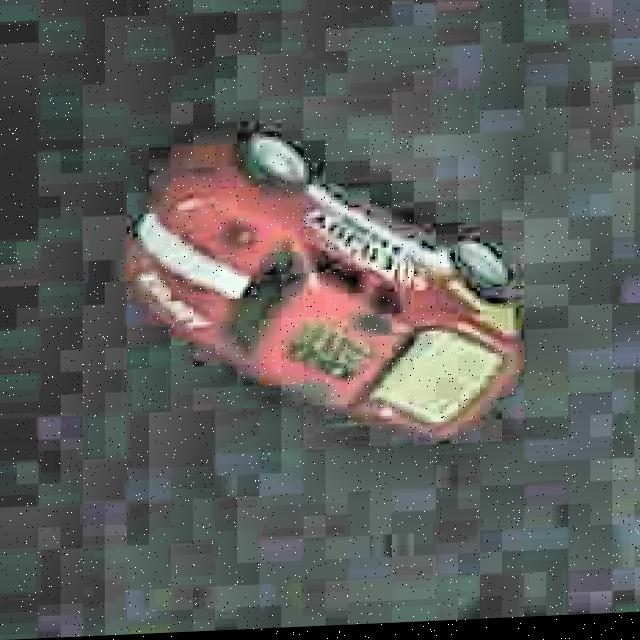car: (132, 115, 524, 455)
